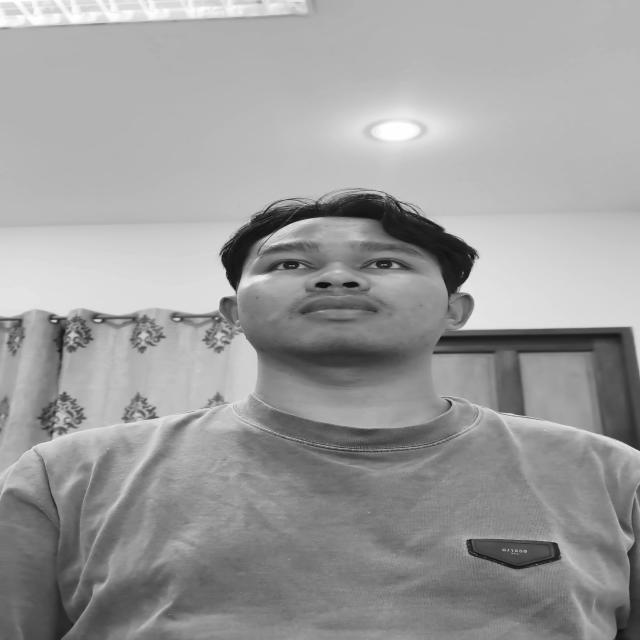ear: (444, 292, 474, 331), (219, 296, 243, 332)
